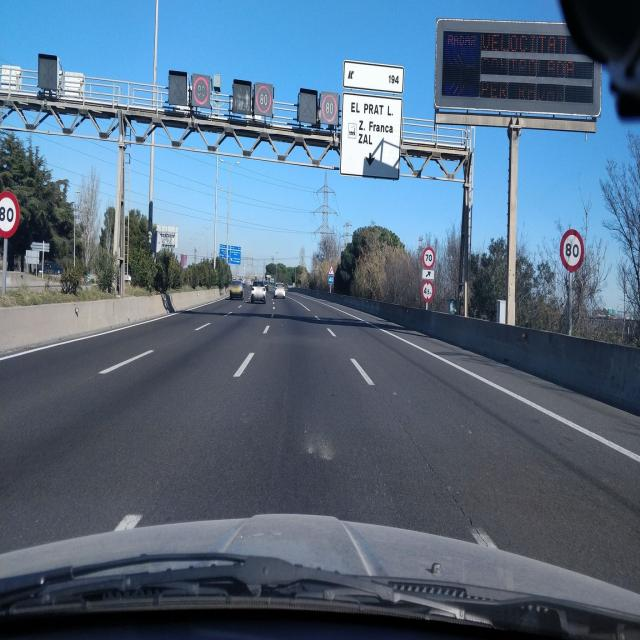car: (250, 278, 266, 304), (229, 279, 244, 300)
